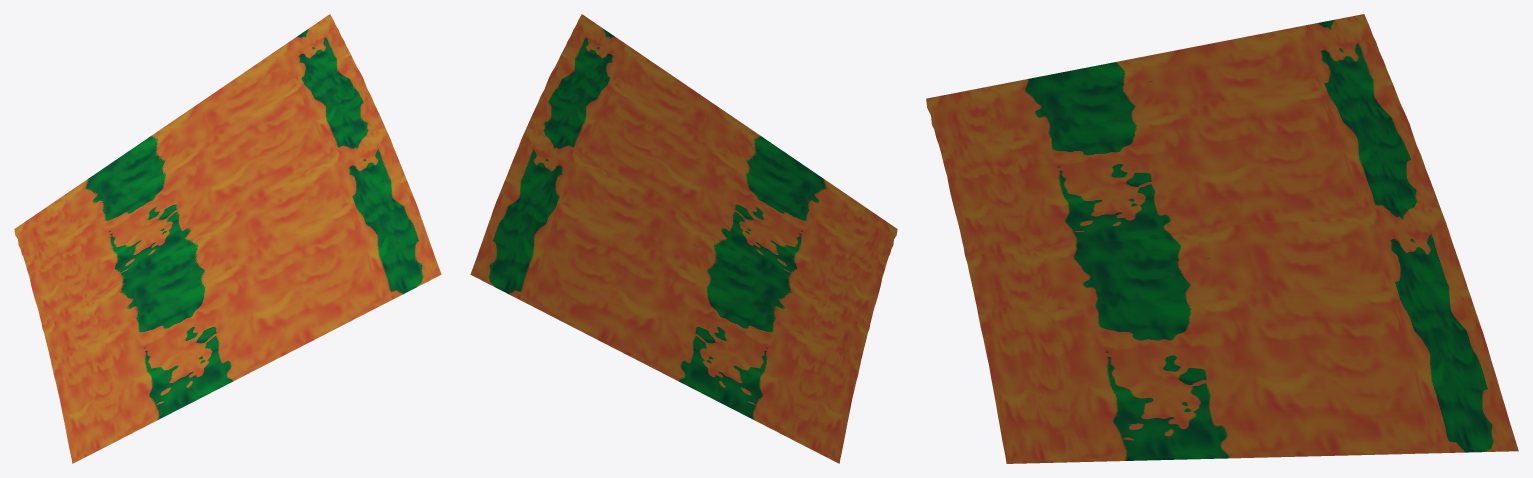
File: p_trashbot_end_sprinkler02_pose0.fbx
3 renders of one model, left to right at view 1: azimuth 30°, elevation 25°; view 2: azimuth 150°, elevation 25°; view 3: azimuth 330°, elevation 25°, orthographic. The views are drawn at different scales.
Parts seen in each view (by area): view 1: p_sprinkler_end_plane_02_pose0; view 2: p_sprinkler_end_plane_02_pose0; view 3: p_sprinkler_end_plane_02_pose0.
Boxes of the visible parts, x1=… form: p_sprinkler_end_plane_02_pose0: x1=14, y1=14, x2=441, y2=463; p_sprinkler_end_plane_02_pose0: x1=470, y1=14, x2=897, y2=463; p_sprinkler_end_plane_02_pose0: x1=926, y1=14, x2=1518, y2=463.
Bounding box in the file's own units: 26.81 × 23.22 × 3.78e-06.
